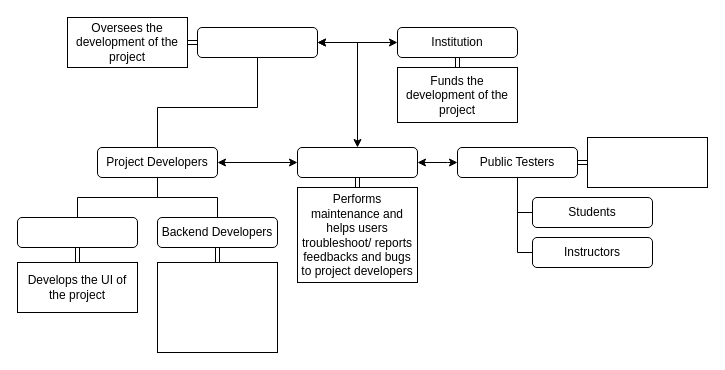
The diagram is 725 pixels wide and 370 high, and some of its shapes have lost their labels. Each missing label, with the box of its shape:
Develops the backend of the application and integrates the UI to the backend: (156, 262, 278, 352)
DO-IT: (296, 146, 418, 178)
Project Manager: (196, 26, 318, 58)
Tests the project prototypes and provides feedbacks: (586, 136, 708, 188)
UI Developers: (16, 216, 138, 248)
